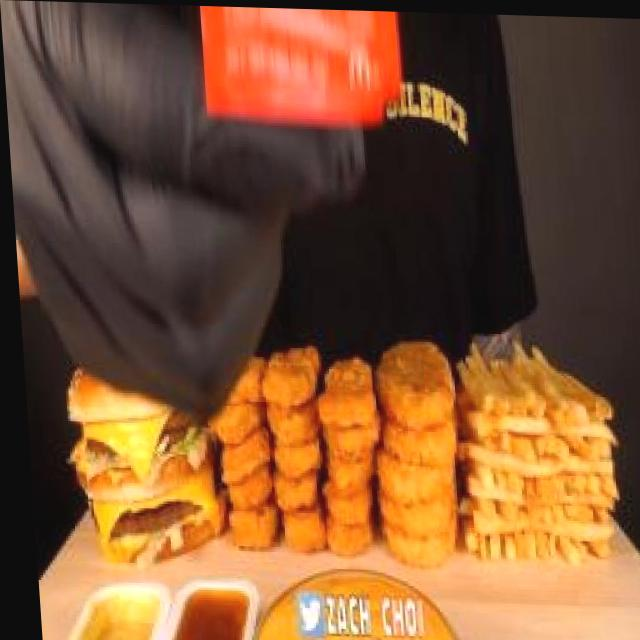Hashbrown: (360, 300, 461, 600)
burger: (43, 346, 225, 570)
french fries: (445, 330, 631, 587)
nugget: (206, 302, 384, 566)
